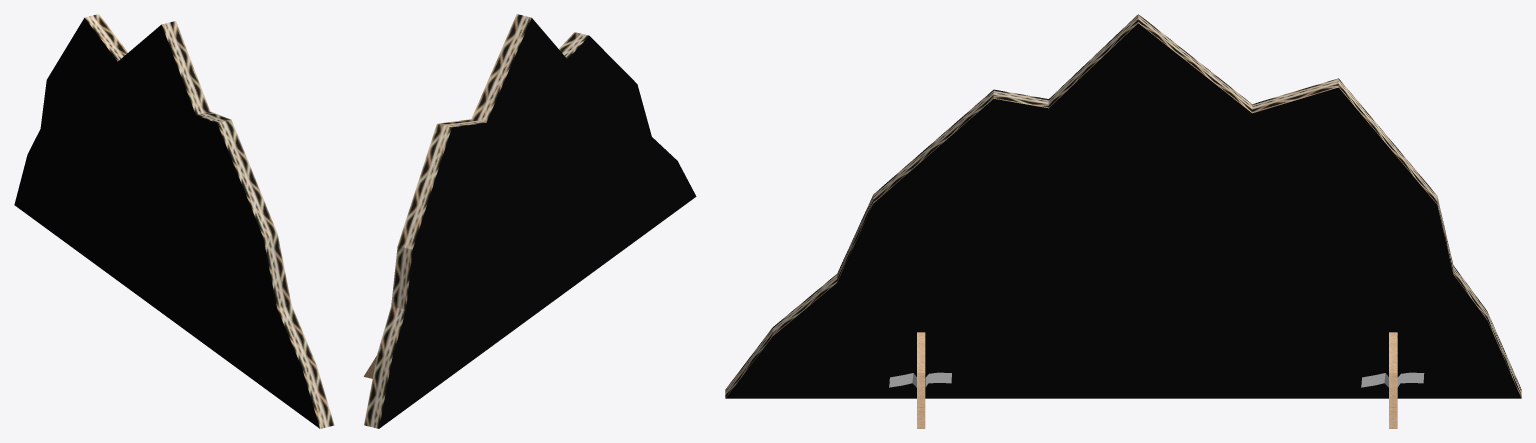
Rendered from Cardboard_mountain1.fbx.
The picture shows the model from 3 angles, left to right: view 1: azimuth 30°, elevation 25°; view 2: azimuth 150°, elevation 25°; view 3: azimuth 270°, elevation 25°; orthographic projection. The views are drawn at different scales.
Visible parts, largest first — view 1: cardboard_mountain1; view 2: cardboard_mountain1; view 3: cardboard_mountain1.
Part boxes in pixels (x1,y1,x2,y2): cardboard_mountain1: (14,14,334,428); cardboard_mountain1: (363,14,696,428); cardboard_mountain1: (725,14,1521,428).
Size of the model in its own units: 9.6 by 42.25 by 81.2.
